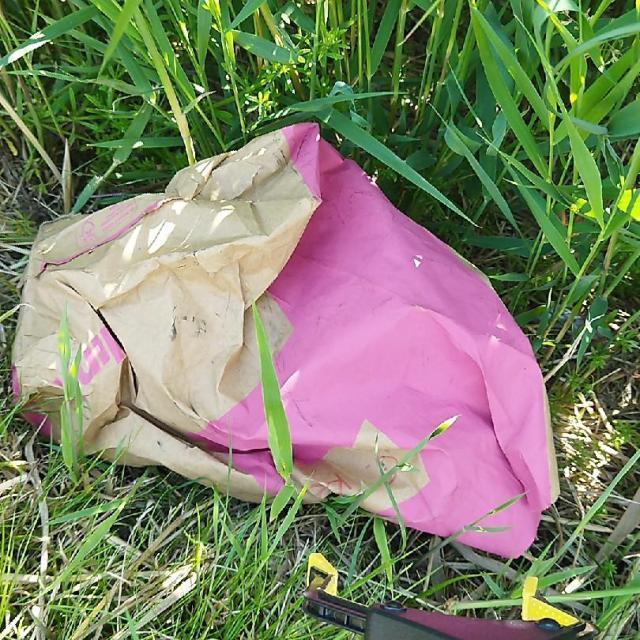Paper: (5, 118, 562, 562)
